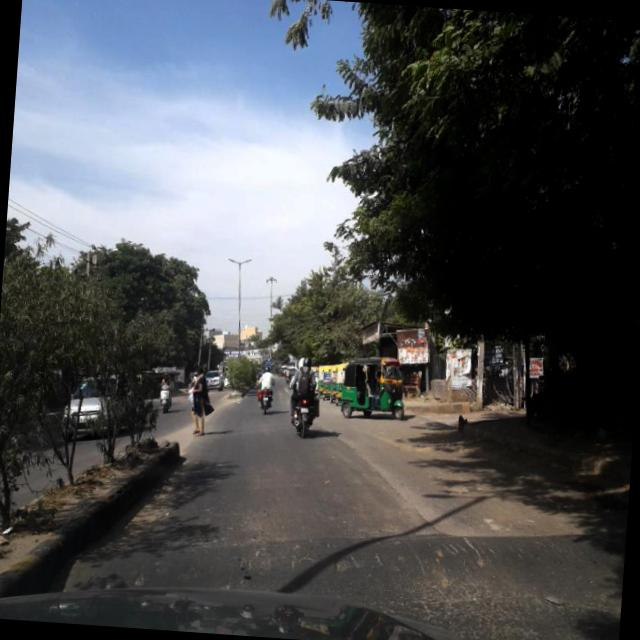crack: (406, 551, 592, 640)
